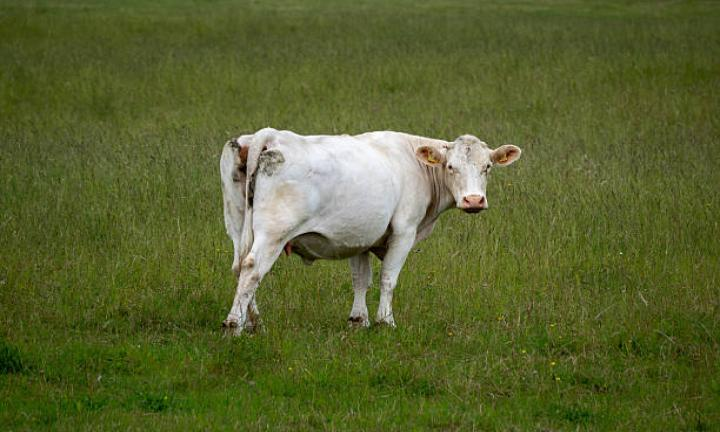Charolais: (221, 128, 520, 334)
